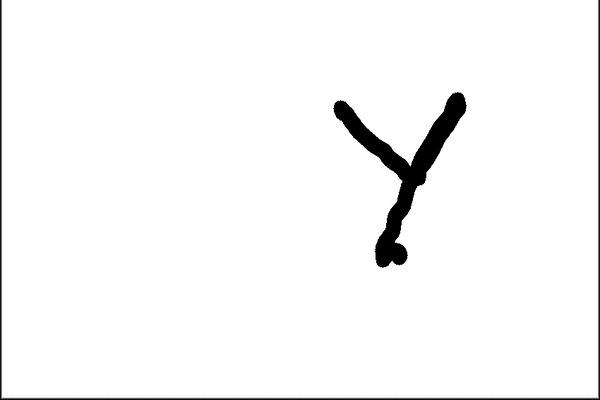Y: (315, 81, 472, 273)
